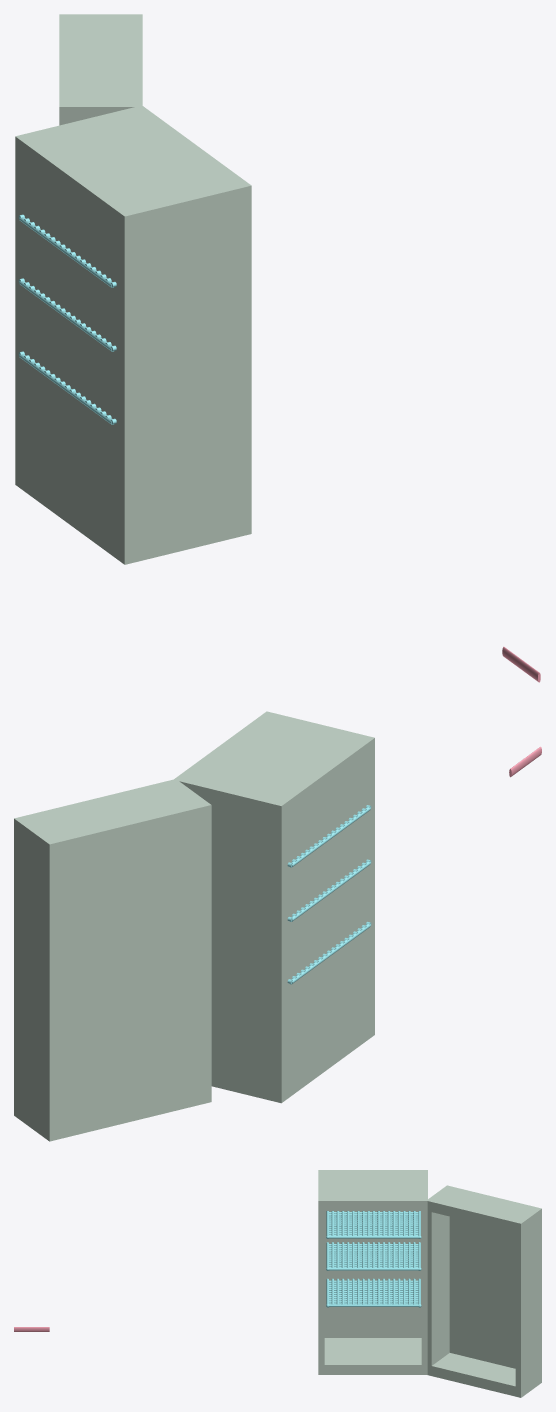
The model's file is kitchenfixesround_2.fbx.
3 views of the same model, one above another, from view 1: azimuth 30°, elevation 25°; view 2: azimuth 150°, elevation 25°; view 3: azimuth 270°, elevation 25° (orthographic). The views are drawn at different scales.
Visible parts, largest first — view 1: pCube20, pCube22, pCylinder31, pCylinder30, pCylinder11; view 2: pCube22, pCube20, pCylinder30, pCylinder31, pCylinder11; view 3: pCube22, pCube20, pCylinder11, pCylinder30, pCylinder31.
Boxes of the visible parts, x1,y1,x2,y2 form: pCube20: [15, 106, 251, 564]; pCube22: [59, 14, 142, 125]; pCylinder31: [18, 214, 116, 287]; pCylinder30: [18, 351, 116, 424]; pCylinder11: [18, 278, 116, 351]; pCube22: [14, 779, 211, 1141]; pCube20: [173, 711, 374, 1103]; pCylinder30: [287, 921, 371, 984]; pCylinder31: [287, 805, 371, 867]; pCylinder11: [287, 859, 371, 921]; pCube22: [427, 1185, 541, 1397]; pCube20: [318, 1170, 427, 1374]; pCylinder11: [326, 1242, 421, 1270]; pCylinder30: [326, 1278, 421, 1307]; pCylinder31: [326, 1211, 421, 1238].
Size of the model in its own units: 13.3 by 19.67 by 54.05.
